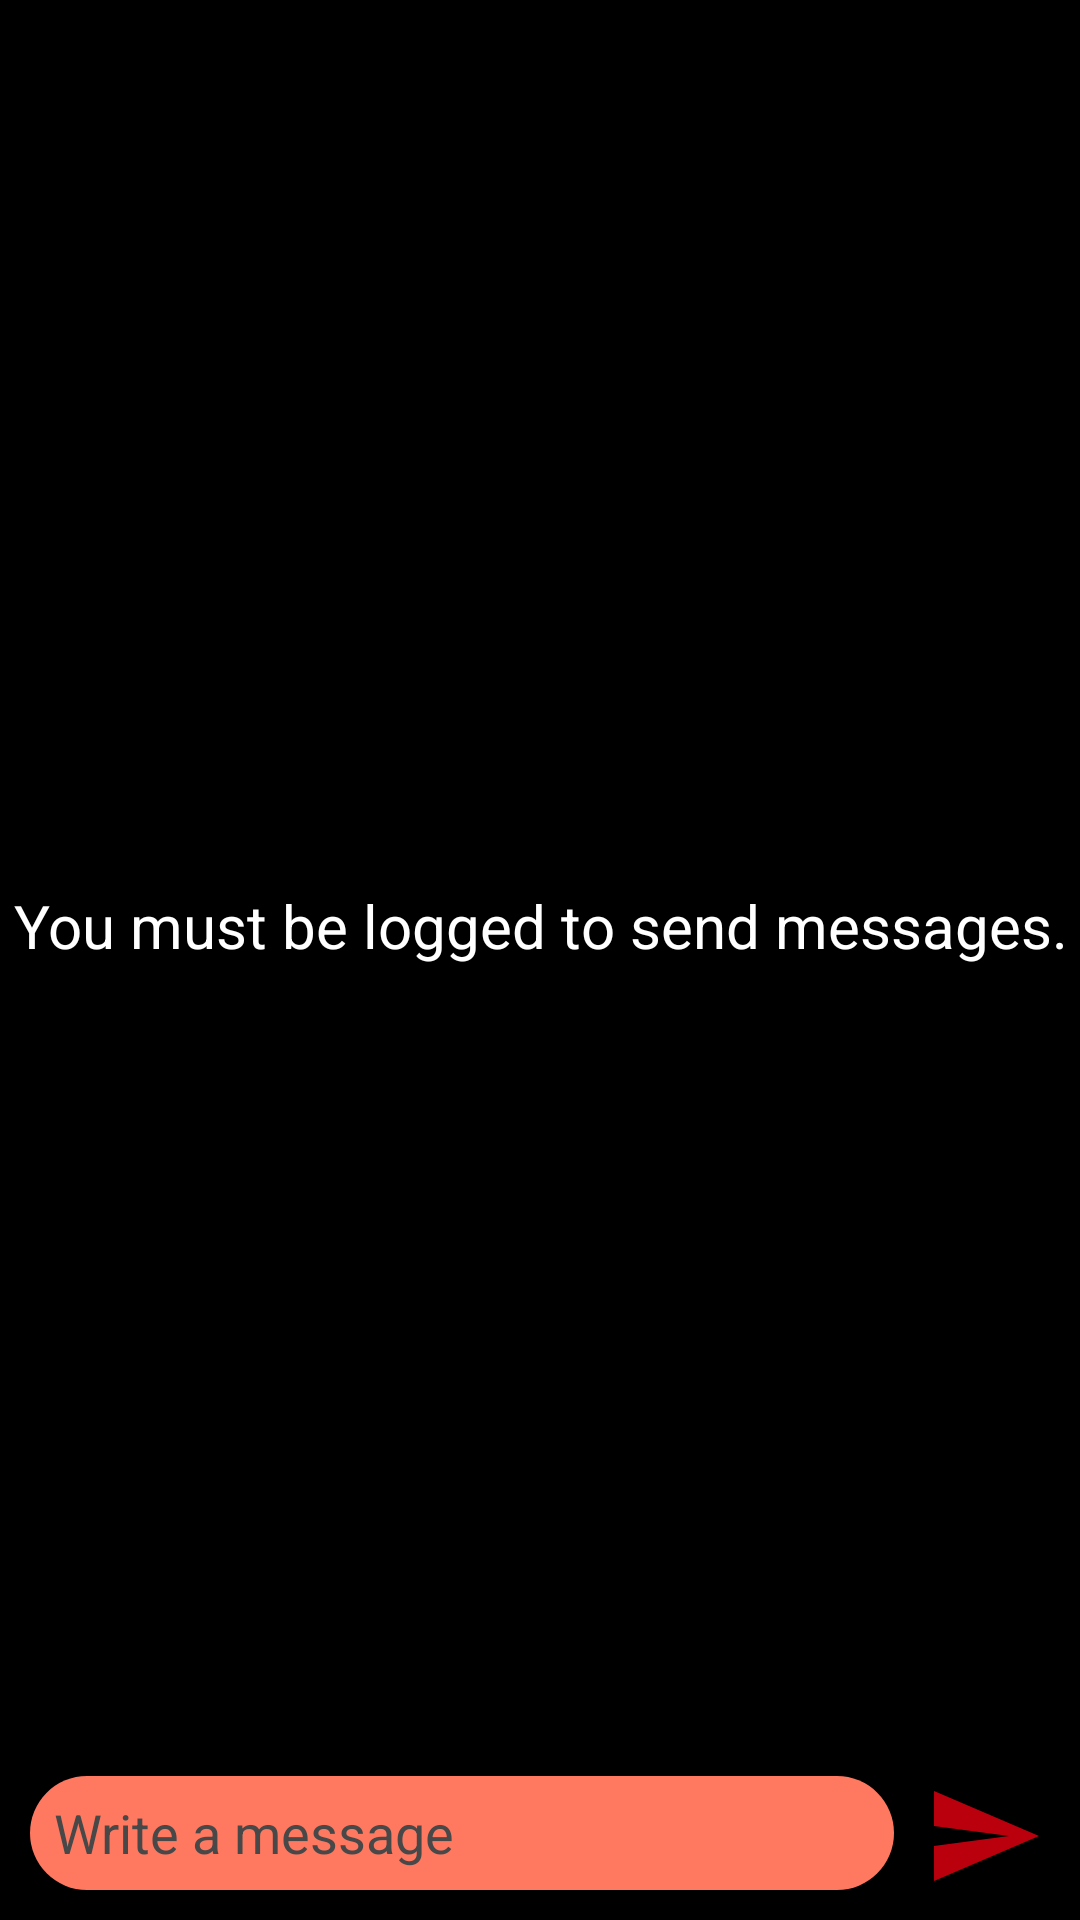

Where to tap for icons on this 1080px×1920px app screen, as point (x, y):
send: point (986, 1836)
